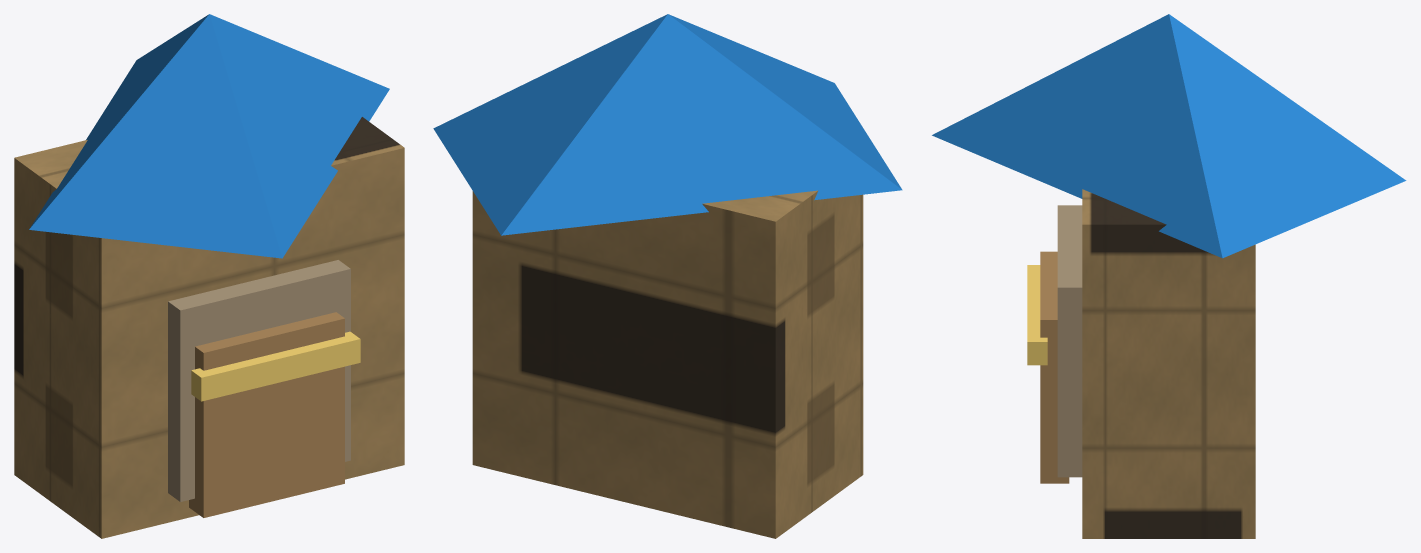
File: city-module-gate-lod1.glb
The picture shows the model from 3 angles, left to right: view 1: azimuth 30°, elevation 25°; view 2: azimuth 150°, elevation 25°; view 3: azimuth 270°, elevation 25°; orthographic projection.
Visible parts, largest first — view 1: module_gate_stone_arch, module_gate_blue_roof, module_gate_wood_door, module_gate_dark_arch_opening, module_gate_gold_crossbar; view 2: module_gate_stone_arch, module_gate_blue_roof; view 3: module_gate_blue_roof, module_gate_stone_arch, module_gate_dark_arch_opening, module_gate_wood_door, module_gate_gold_crossbar.
Boxes of the visible parts, box(x1,y1,x2,y2) form: module_gate_stone_arch: box(14, 117, 404, 538); module_gate_blue_roof: box(29, 14, 389, 258); module_gate_wood_door: box(189, 312, 344, 517); module_gate_dark_arch_opening: box(168, 260, 350, 501); module_gate_gold_crossbar: box(191, 331, 360, 401); module_gate_stone_arch: box(472, 190, 863, 538); module_gate_blue_roof: box(433, 14, 902, 235); module_gate_blue_roof: box(932, 14, 1406, 258); module_gate_stone_arch: box(1082, 189, 1255, 538); module_gate_dark_arch_opening: box(1057, 205, 1082, 477); module_gate_wood_door: box(1040, 251, 1069, 483); module_gate_gold_crossbar: box(1027, 265, 1047, 365).
Size of the model in its own units: 0.3288 by 0.345 by 0.3288.
5 materials, 1 textured.
